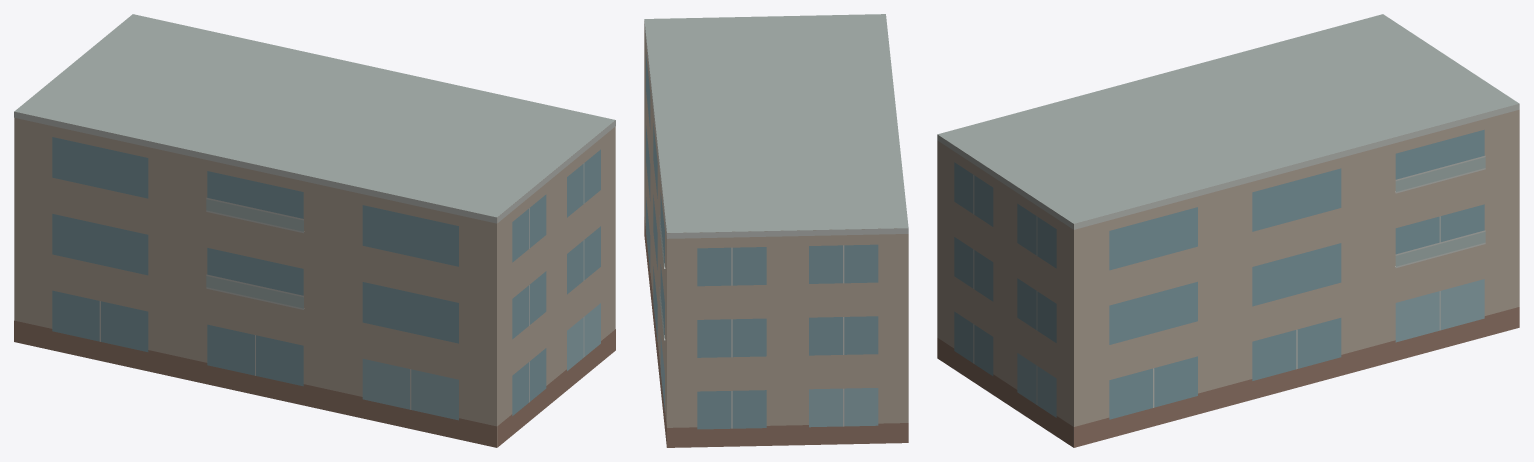
The model's file is survey-upis-32949812.glb.
3 renders of one model, left to right at view 1: azimuth 30°, elevation 25°; view 2: azimuth 150°, elevation 25°; view 3: azimuth 270°, elevation 25°, orthographic. The views are drawn at different scales.
Visible parts, largest first — view 1: survey-upis-32949812.tmp; view 2: survey-upis-32949812.tmp; view 3: survey-upis-32949812.tmp.
Part boxes in pixels (x1,y1,x2,y2): survey-upis-32949812.tmp: (14,14,615,447); survey-upis-32949812.tmp: (644,14,908,447); survey-upis-32949812.tmp: (937,14,1519,447).
Bounding box in the file's own units: 18.4 × 9.15 × 21.57.
